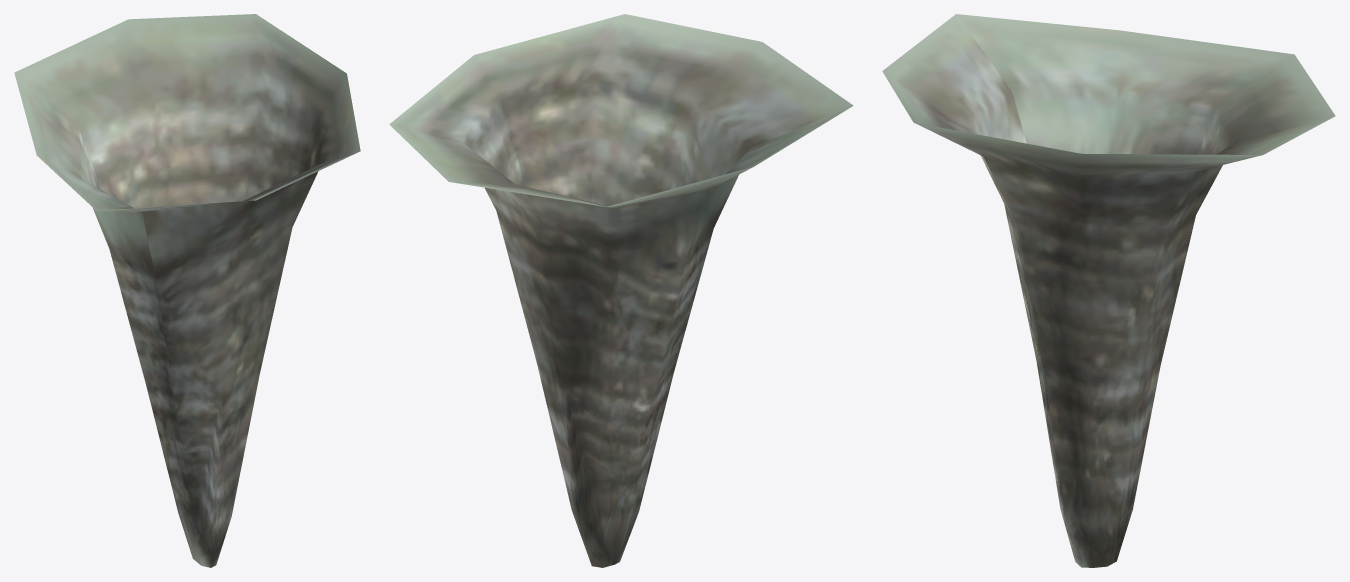
The model's file is TROLLHOLE02_PS-SECRETSTALAG13.fbx.
3 views of the same model, side by side, from view 1: azimuth 30°, elevation 25°; view 2: azimuth 150°, elevation 25°; view 3: azimuth 270°, elevation 25° (orthographic). The views are drawn at different scales.
Parts seen in each view (by area): view 1: TROLLHOLE02_PS-SECRETSTALAG13; view 2: TROLLHOLE02_PS-SECRETSTALAG13; view 3: TROLLHOLE02_PS-SECRETSTALAG13.
Boxes of the visible parts, x1,y1,x2,y2 form: TROLLHOLE02_PS-SECRETSTALAG13: (14,14,360,567); TROLLHOLE02_PS-SECRETSTALAG13: (389,14,853,567); TROLLHOLE02_PS-SECRETSTALAG13: (882,14,1335,567).
Bounding box in the file's own units: 20855 × 29564 × 25255.
Materials: 1 (1 with a texture image).
